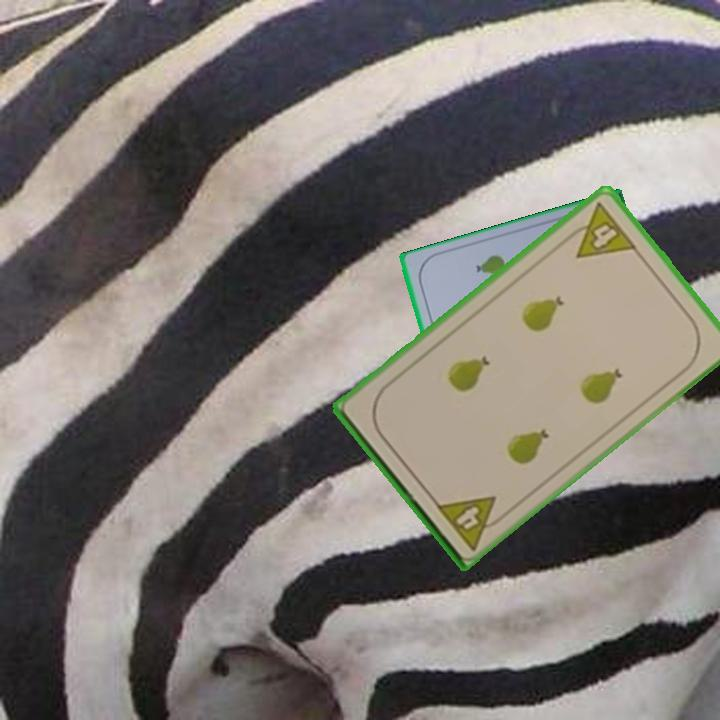4p: (560, 199, 640, 261), (432, 491, 510, 554)
